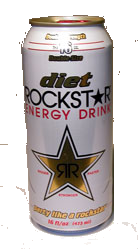grozi_48: (21, 16, 127, 237)
